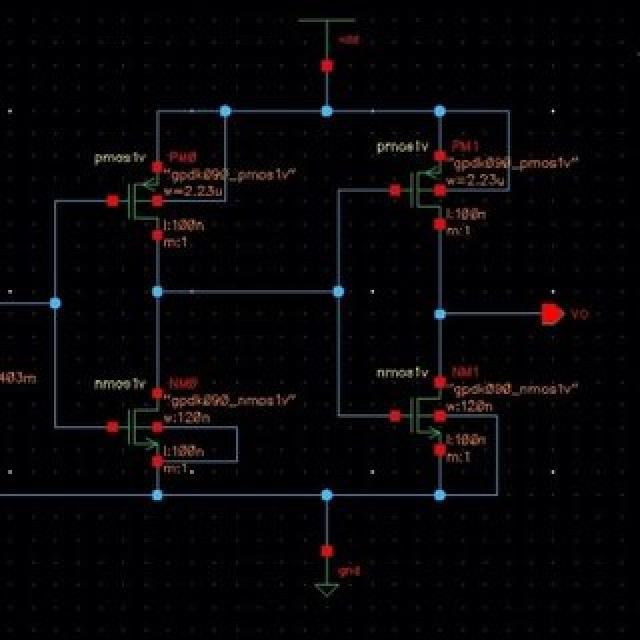nmos: (92, 376, 168, 471), (374, 366, 448, 455)
pmos: (91, 152, 166, 245), (375, 137, 449, 231)
